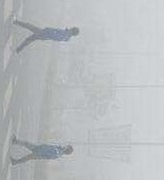person: (10, 15, 81, 56), (10, 135, 75, 166)
